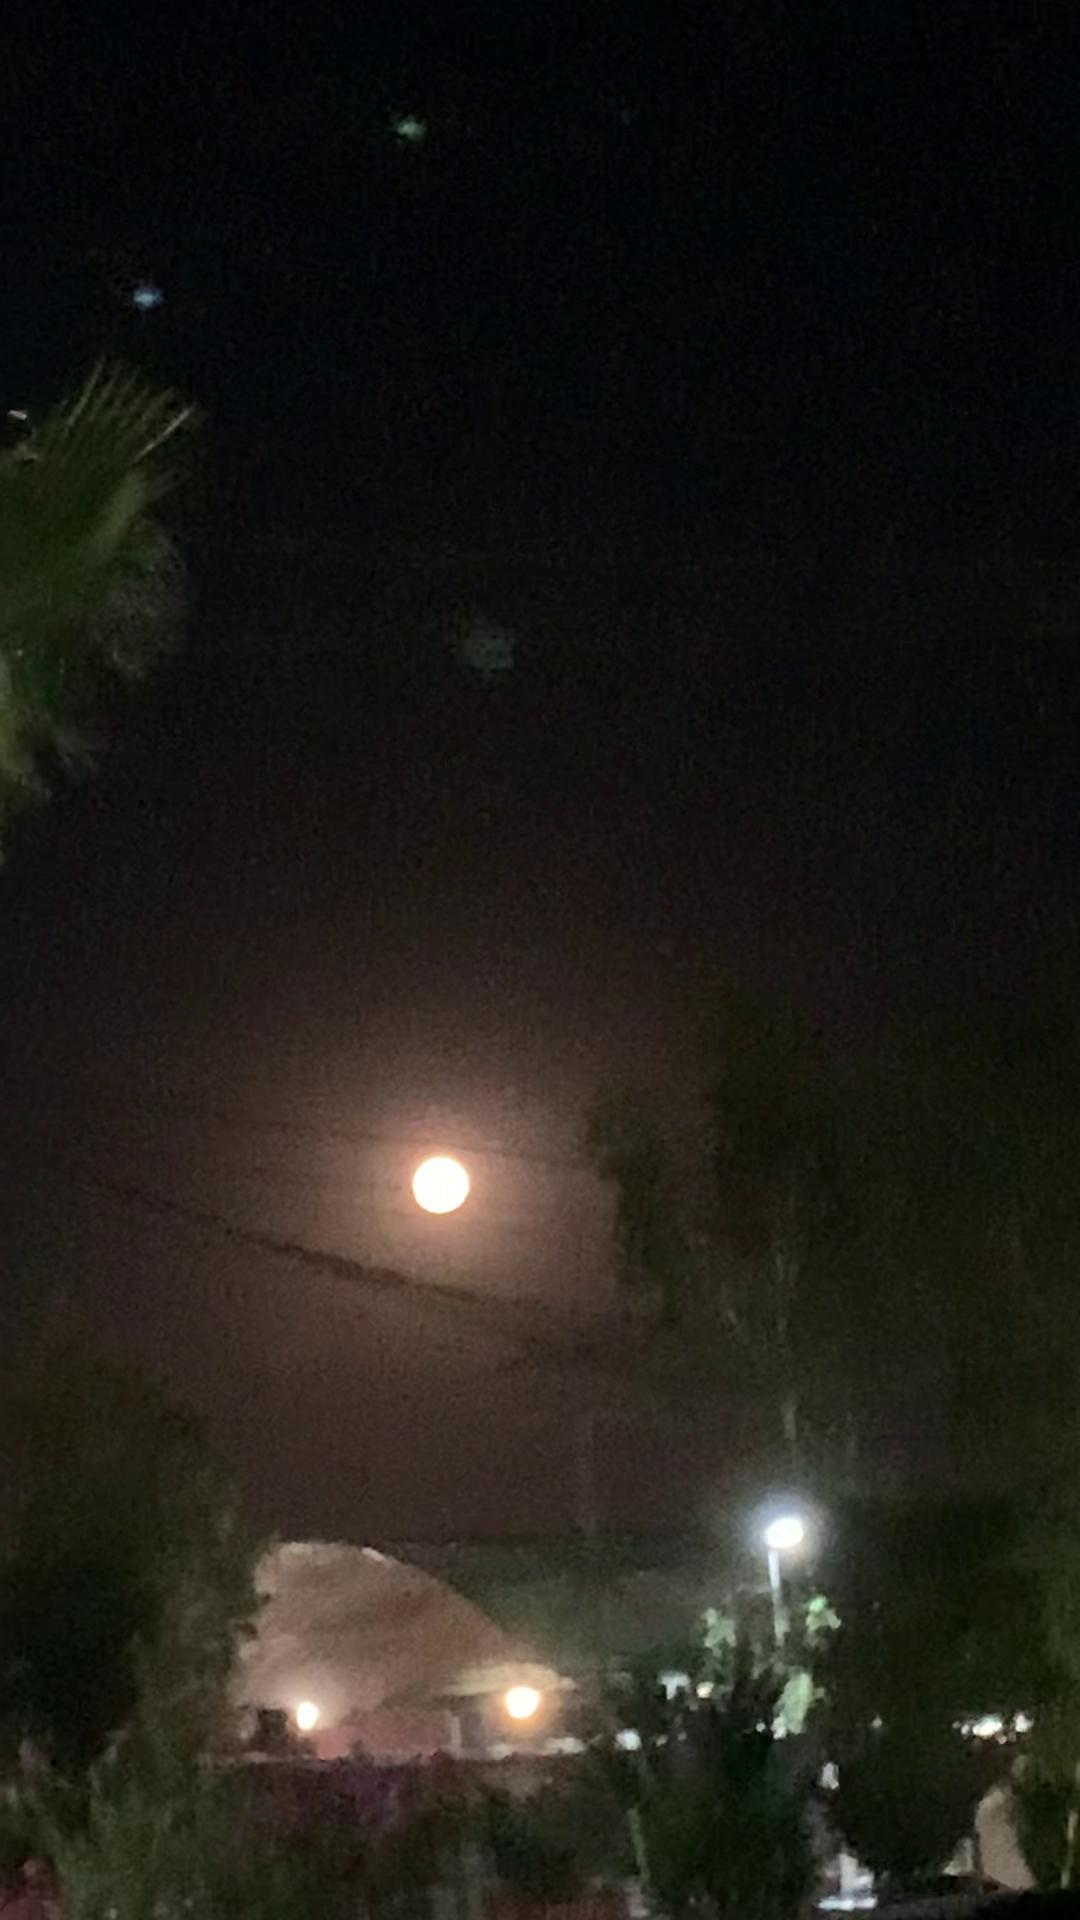moon: (377, 1157, 485, 1252)
